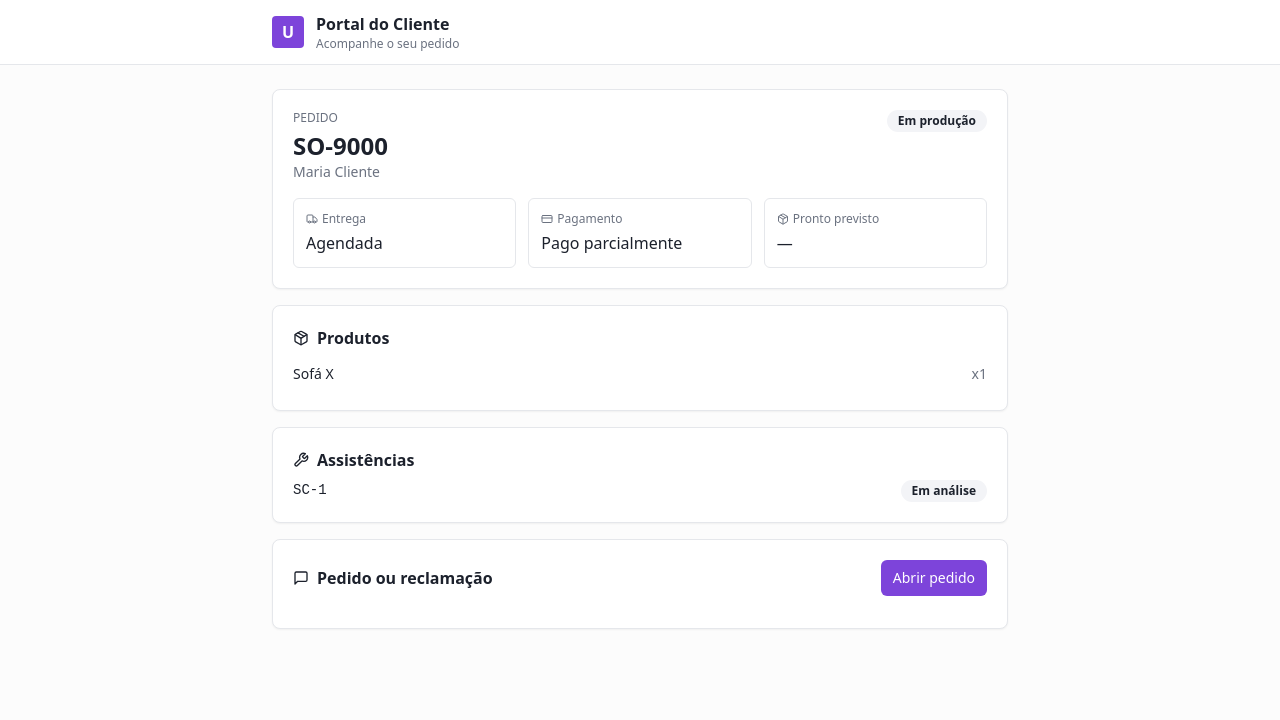
CustomerPortalPage › customer can add a follow-up message via customer_ticket_add_message
Later steps or results of the test are not shown.
Step 1. Click the button "Abrir pedido" → (934, 578), box [881,560,987,596]
(page scrolled)
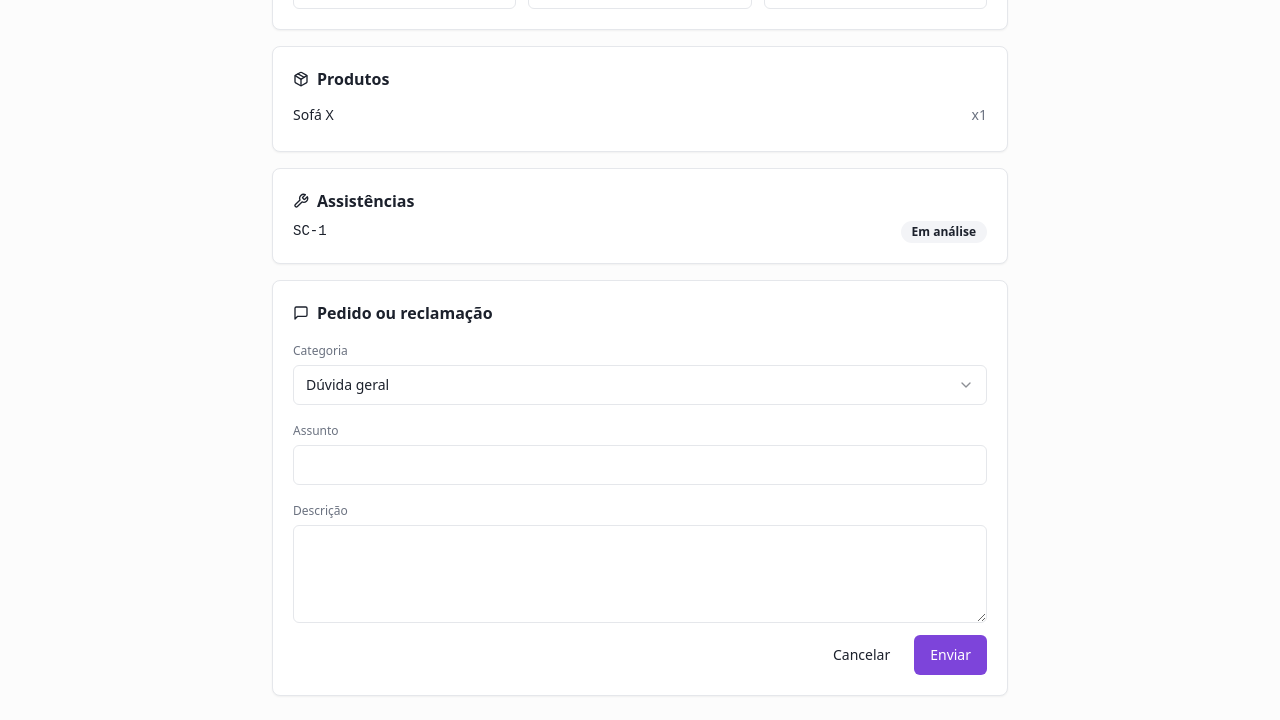
Step 2. Type "Assunto" into the field → (640, 465), box [293,445,987,485]
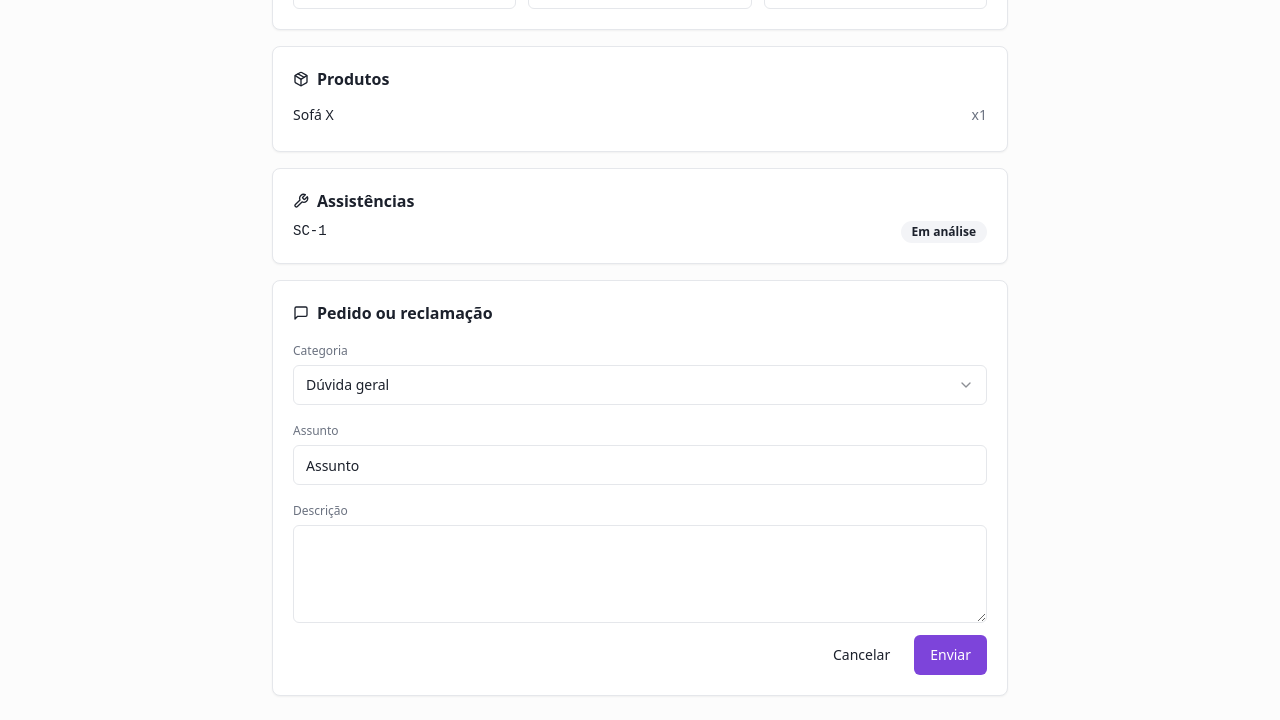
Step 3. Type "Detalhes" into the text box → (640, 574), box [293,525,987,623]
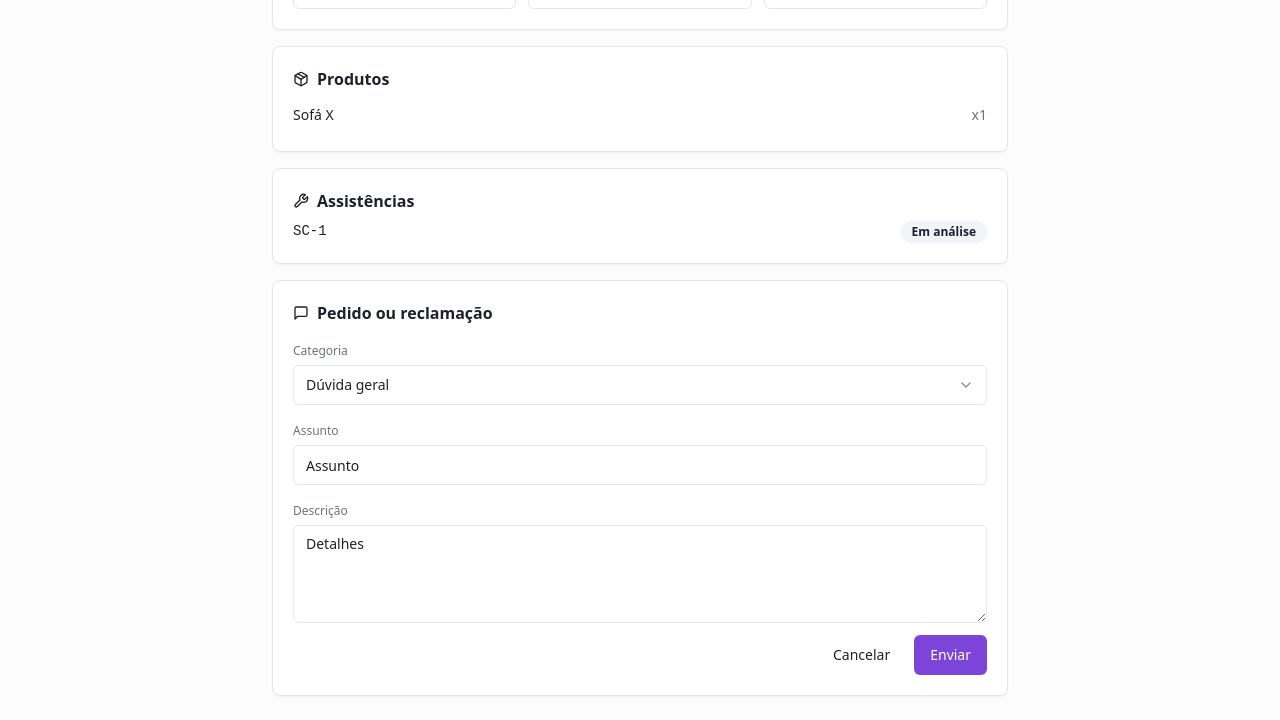
Step 4. Click the button "Enviar" → (951, 655), box [914,635,987,675]
(page scrolled)
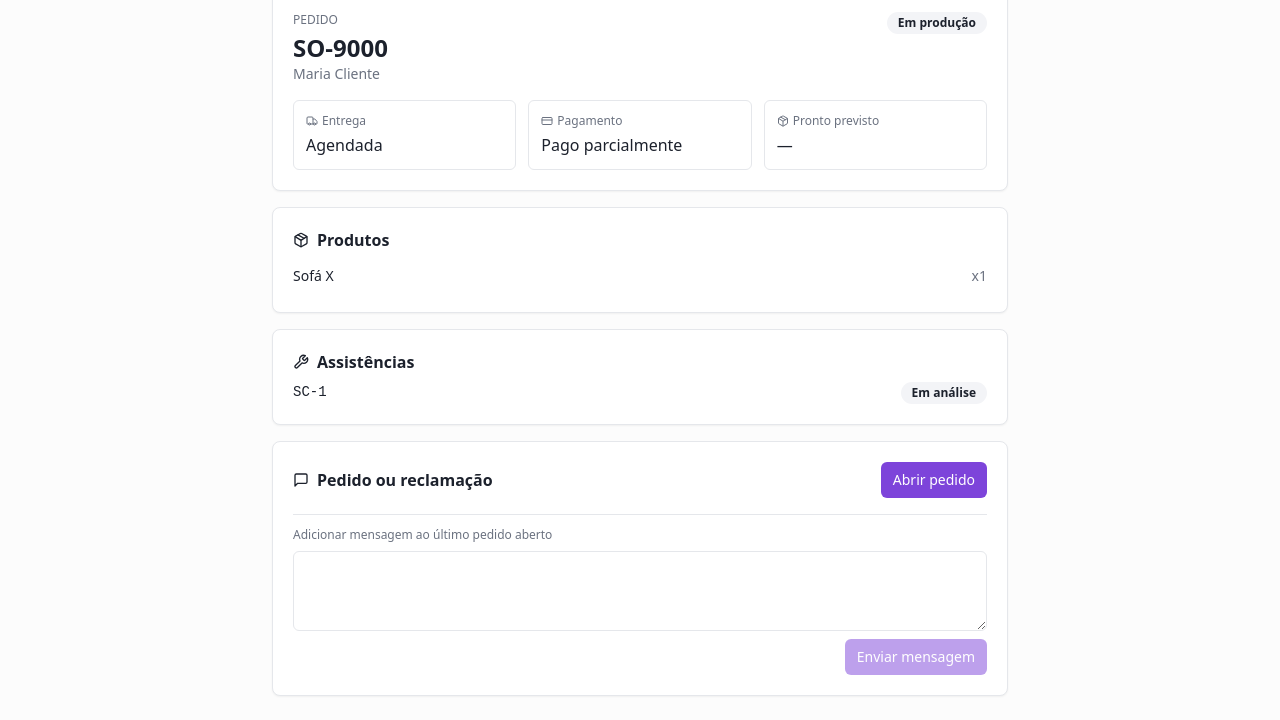
Now the text "Adicionar mensagem ao último pedido aberto" is shown, box [293,526,552,543]
